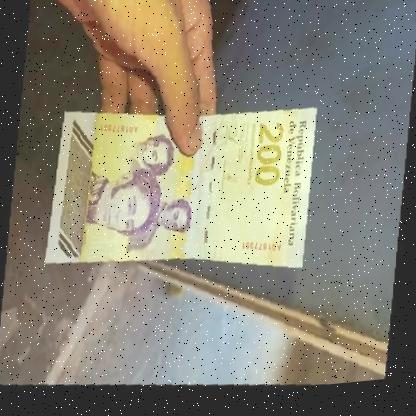two_hundred-front-vef: (44, 91, 318, 294)
